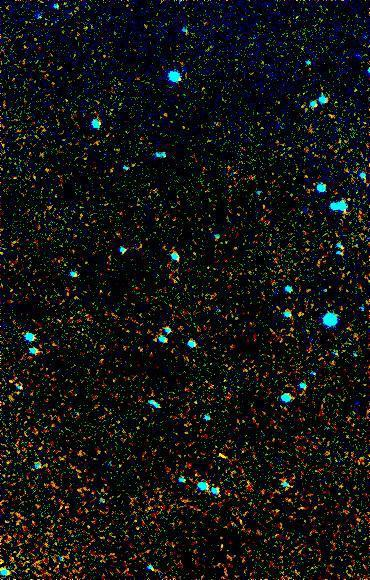star: (207, 437, 237, 467)
